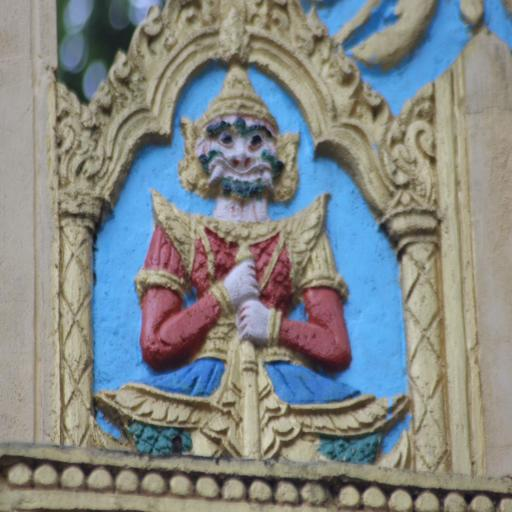than: (137, 72, 371, 464)
